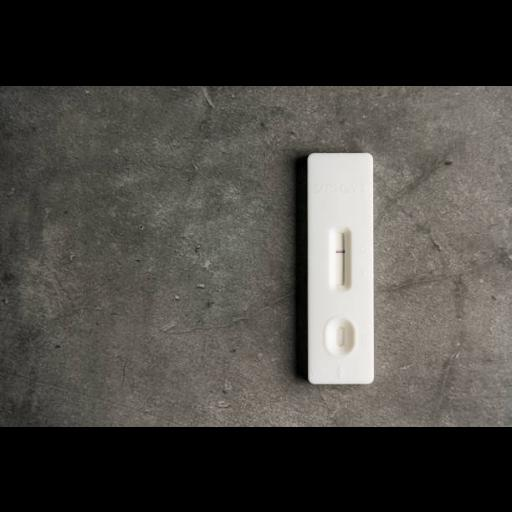Neg: (308, 150, 372, 384)
